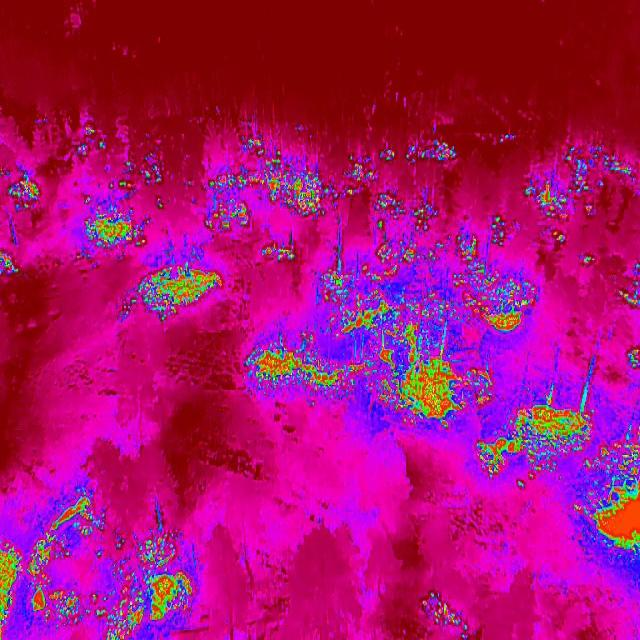fire: (28, 492, 146, 640), (202, 133, 331, 265), (422, 214, 537, 338), (374, 327, 494, 432), (477, 390, 598, 490), (240, 336, 374, 406), (316, 259, 422, 337), (573, 437, 640, 555), (118, 262, 225, 326), (367, 188, 447, 261), (80, 196, 148, 255), (565, 144, 637, 198), (114, 152, 166, 210), (416, 587, 471, 637), (378, 136, 466, 166), (522, 171, 575, 219), (0, 537, 24, 640), (145, 571, 193, 620), (69, 120, 113, 164), (0, 168, 41, 214), (338, 154, 378, 198), (142, 530, 178, 572), (618, 259, 640, 309), (0, 247, 21, 279), (626, 342, 640, 372), (580, 250, 599, 268), (550, 225, 566, 245)
